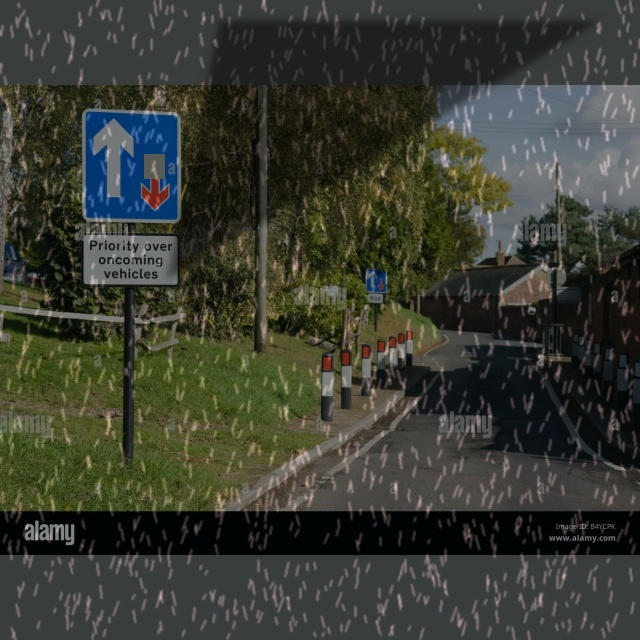Priority_for_Oncoming_Traffic: (86, 111, 182, 222)
